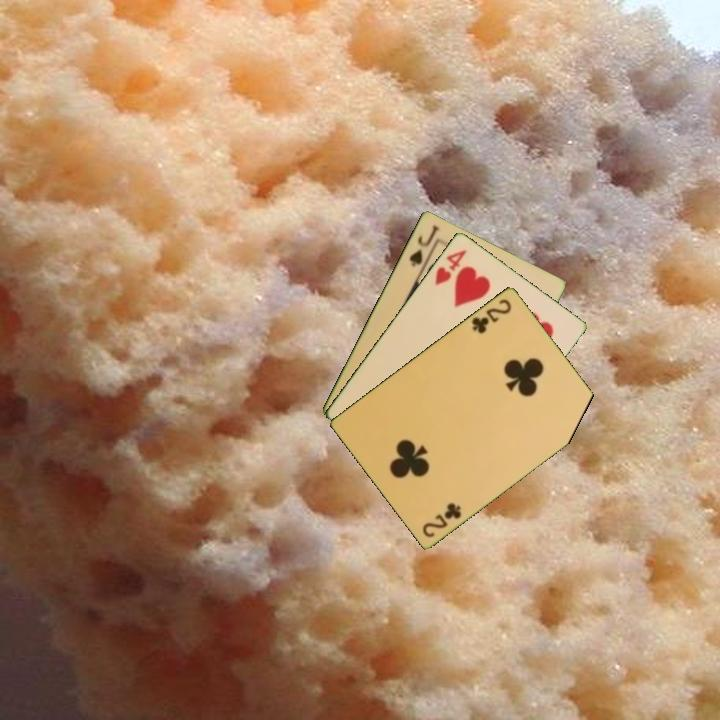2c: (468, 295, 514, 336), (419, 499, 464, 540)
4h: (431, 246, 469, 288)
Js: (405, 221, 442, 269)
